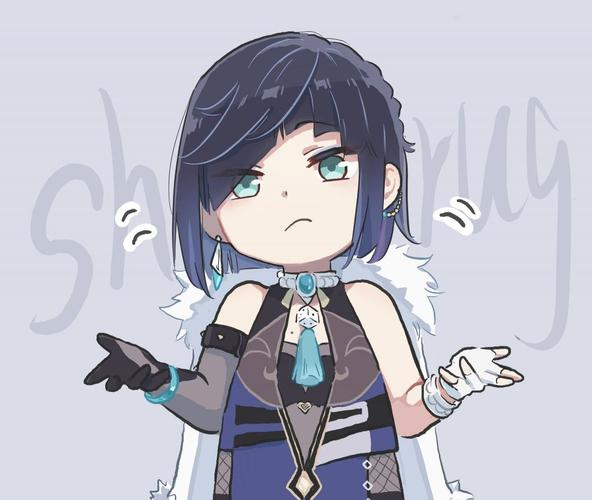夜兰: (77, 30, 526, 500)
